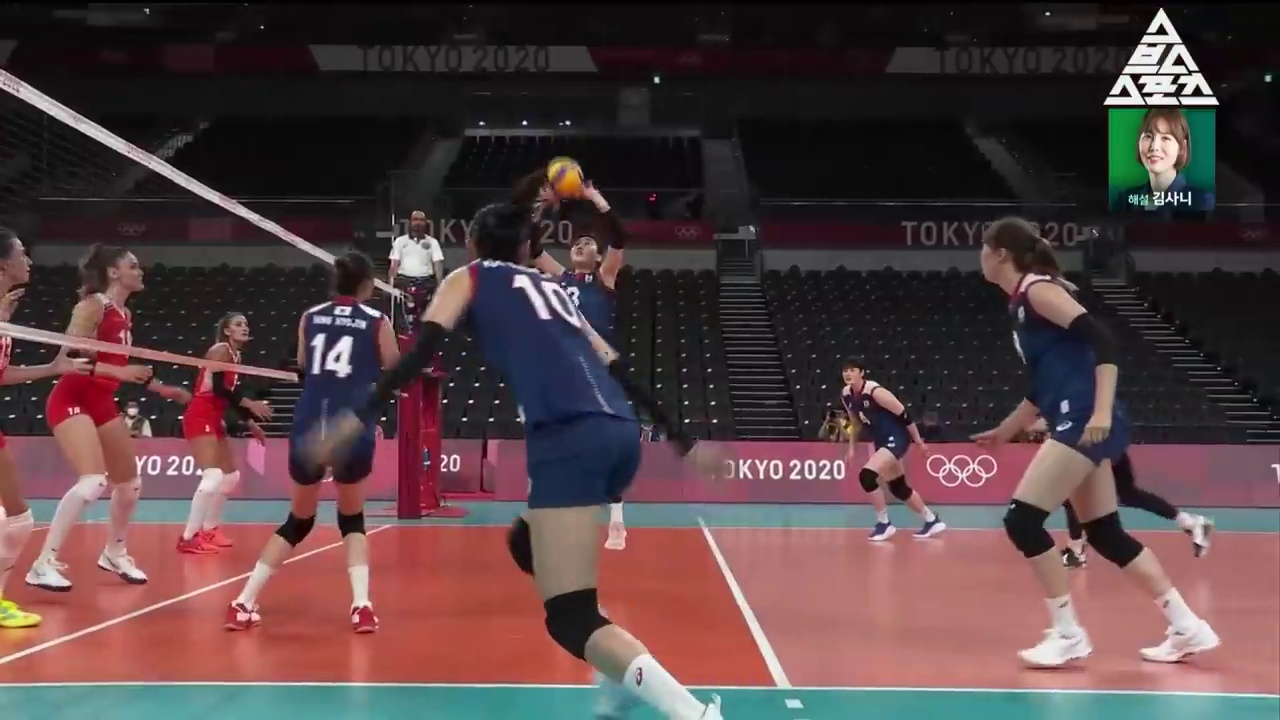ball: (549, 158, 583, 197)
player: (308, 169, 733, 720), (971, 218, 1223, 667), (225, 250, 399, 633), (518, 182, 628, 550), (841, 356, 948, 541)
player 1: (26, 246, 193, 590), (0, 226, 95, 626), (178, 313, 273, 553)
referee: (390, 208, 444, 339)
